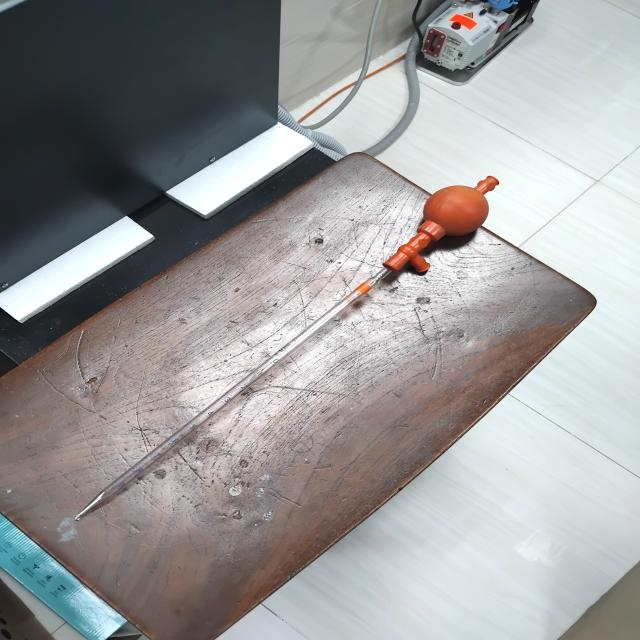Volumetric_Pipet: (20, 137, 549, 569)
